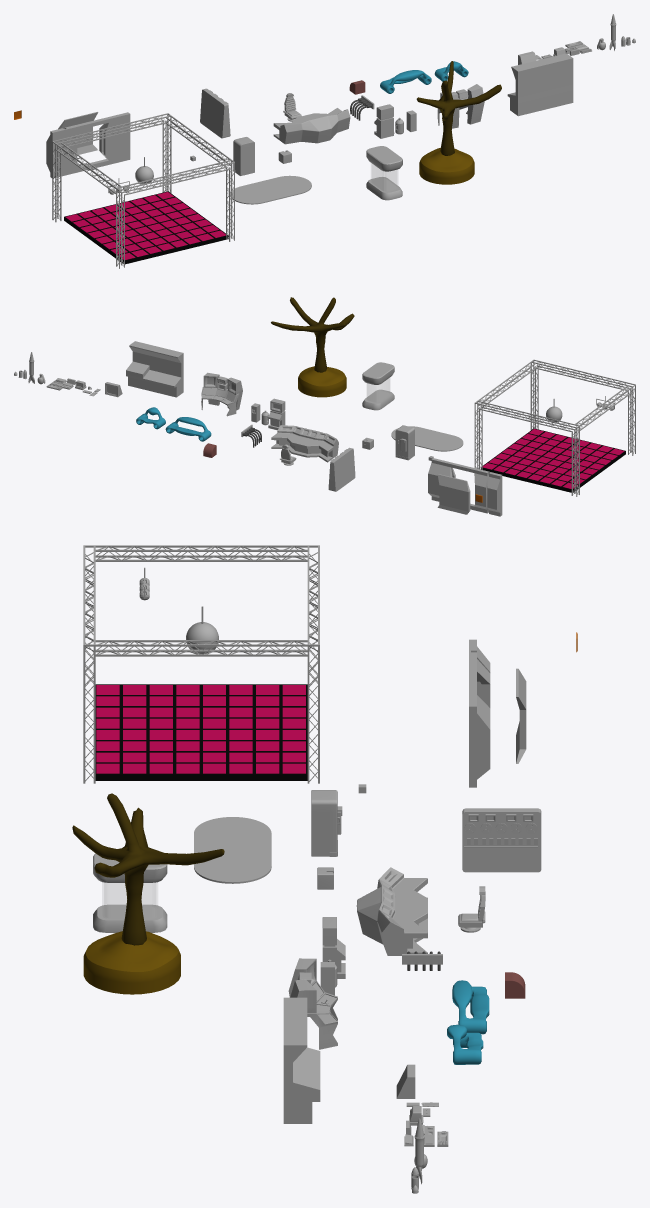
The model's file is BlockoutDump.fbx.
3 renders of one model, top to bottom at view 1: azimuth 30°, elevation 25°; view 2: azimuth 150°, elevation 25°; view 3: azimuth 270°, elevation 25°, orthographic. The views are drawn at different scales.
Visible parts, largest first — view 1: pCube174, polySurface138, polySurface252, pCube53, pCube8, pCylinder22, pCube159, polySurface52, pCube33, polySurface271, pCube170, polySurface63 (+3 smaller); view 2: pCube174, polySurface138, polySurface252, pCube53, pCube8, pCube33, pCylinder22, pCube170, polySurface52, polySurface273, pCube159, polySurface271 (+4 smaller); view 3: pCube174, polySurface138, polySurface271, pCube33, pCylinder22, pCube8, pCube159, polySurface252, polySurface52, pCube53, pCube170, polySurface63 (+3 smaller).
Boxes of the visible parts, <box> form: pCube174: <box>64,191,228,264</box>; polySurface138: <box>52,113,234,268</box>; polySurface252: <box>507,53,573,116</box>; pCube53: <box>46,112,130,177</box>; pCube8: <box>273,108,350,144</box>; pCylinder22: <box>419,148,474,184</box>; pCube159: <box>230,175,311,204</box>; polySurface52: <box>366,146,402,200</box>; pCube33: <box>416,61,501,155</box>; polySurface271: <box>200,88,230,138</box>; pCube170: <box>437,84,484,128</box>; polySurface63: <box>233,137,254,175</box>; pCube174: <box>480,428,625,492</box>; polySurface138: <box>474,359,635,496</box>; polySurface252: <box>126,341,183,397</box>; pCube53: <box>428,458,502,516</box>; pCube8: <box>271,425,338,462</box>; pCube33: <box>271,297,354,372</box>; pCylinder22: <box>298,366,346,397</box>; pCube170: <box>201,372,242,416</box>; polySurface52: <box>362,362,394,410</box>; polySurface273: <box>437,474,470,514</box>; pCube159: <box>391,426,463,451</box>; polySurface271: <box>328,447,355,491</box>; pCube174: <box>95,684,307,780</box>; polySurface138: <box>83,545,319,783</box>; polySurface271: <box>462,808,541,872</box>; pCube33: <box>72,793,224,945</box>; pCylinder22: <box>83,931,180,994</box>; pCube8: <box>356,867,427,955</box>; pCube159: <box>194,817,271,883</box>; polySurface252: <box>283,997,320,1123</box>; polySurface52: <box>93,853,167,932</box>; pCube53: <box>469,639,490,787</box>; pCube170: <box>288,958,337,1049</box>; polySurface63: <box>311,790,342,856</box>.
Size of the model in its own units: 0.7483 by 0.119 by 0.3039.
